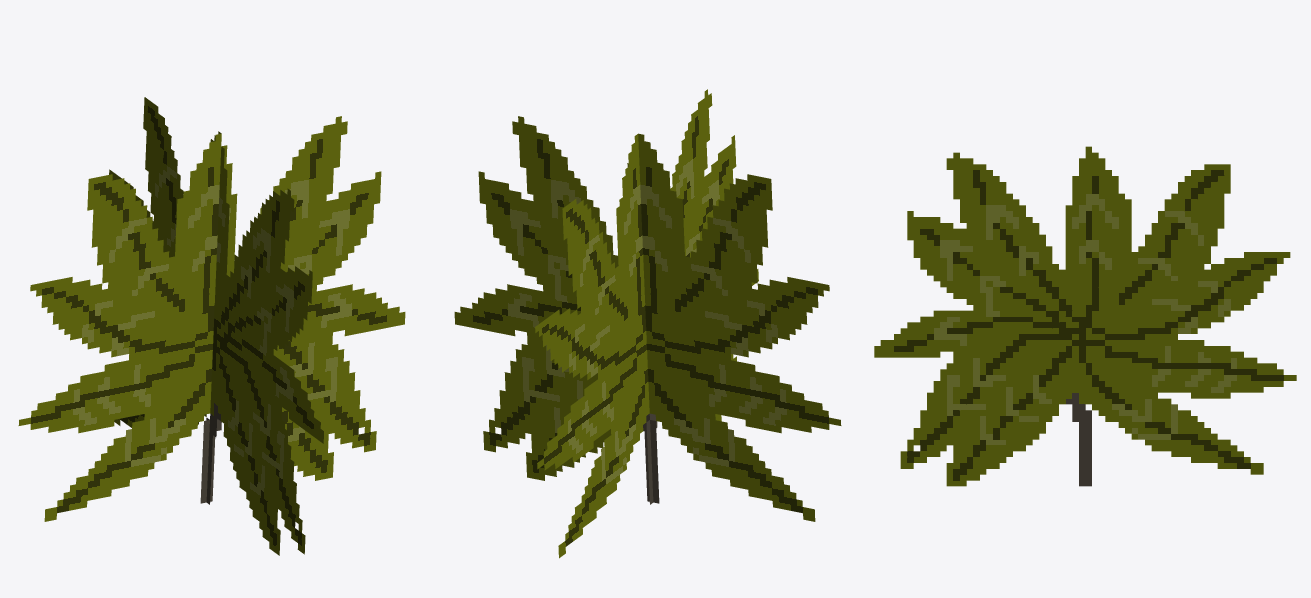
The model's file is amba'y (1).glb.
The picture shows the model from 3 angles, left to right: view 1: azimuth 30°, elevation 25°; view 2: azimuth 150°, elevation 25°; view 3: azimuth 270°, elevation 25°; orthographic projection. The views are drawn at different scales.
Parts seen in each view (by area): view 1: plane; view 2: plane; view 3: plane.
Part boxes in pixels (<box>): plane: <box>18,97,405,555</box>; plane: <box>454,89,841,558</box>; plane: <box>874,146,1296,486</box>.
Bounding box in the file's own units: 1.04 × 1.04 × 1.
Materials: 1 (1 with a texture image).
